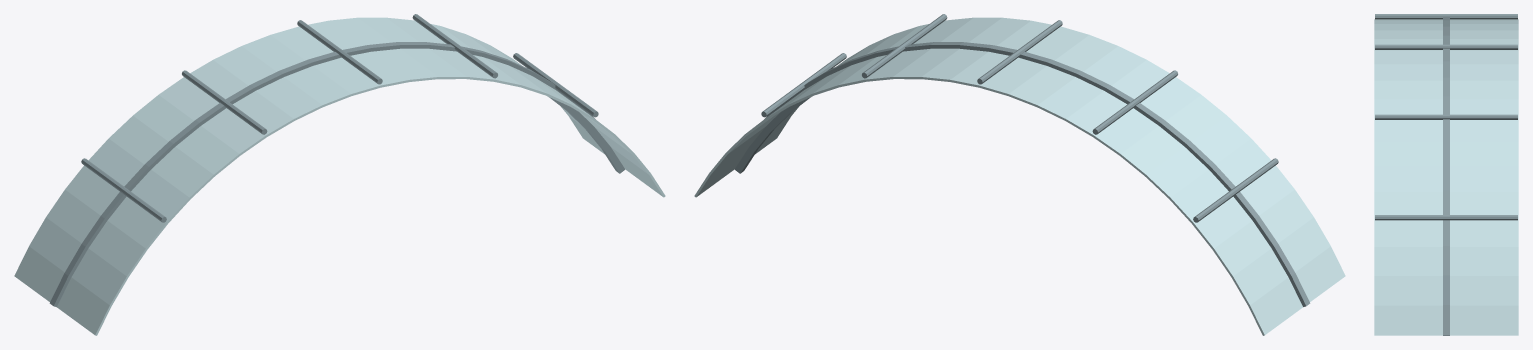
Rendered from skylight_vault.glb.
3 views of the same model, side by side, from view 1: azimuth 30°, elevation 25°; view 2: azimuth 150°, elevation 25°; view 3: azimuth 270°, elevation 25° (orthographic). The views are drawn at different scales.
Parts seen in each view (by area): view 1: skylight_vault_glass, skylight_vault_frame2; view 2: skylight_vault_glass, skylight_vault_frame2; view 3: skylight_vault_glass, skylight_vault_frame2.
Boxes of the visible parts, <box> form: skylight_vault_glass: <box>14,17,665,335</box>; skylight_vault_frame2: <box>49,14,625,306</box>; skylight_vault_glass: <box>694,17,1345,335</box>; skylight_vault_frame2: <box>734,14,1310,306</box>; skylight_vault_glass: <box>1374,19,1518,335</box>; skylight_vault_frame2: <box>1375,14,1517,335</box>.
Size of the model in its own units: 8.23 by 2.6 by 2.
